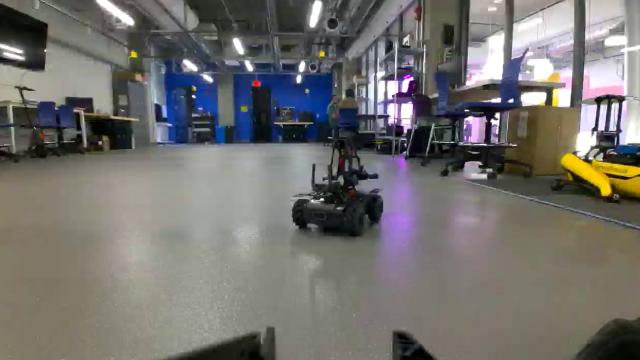robot: (286, 124, 388, 243)
